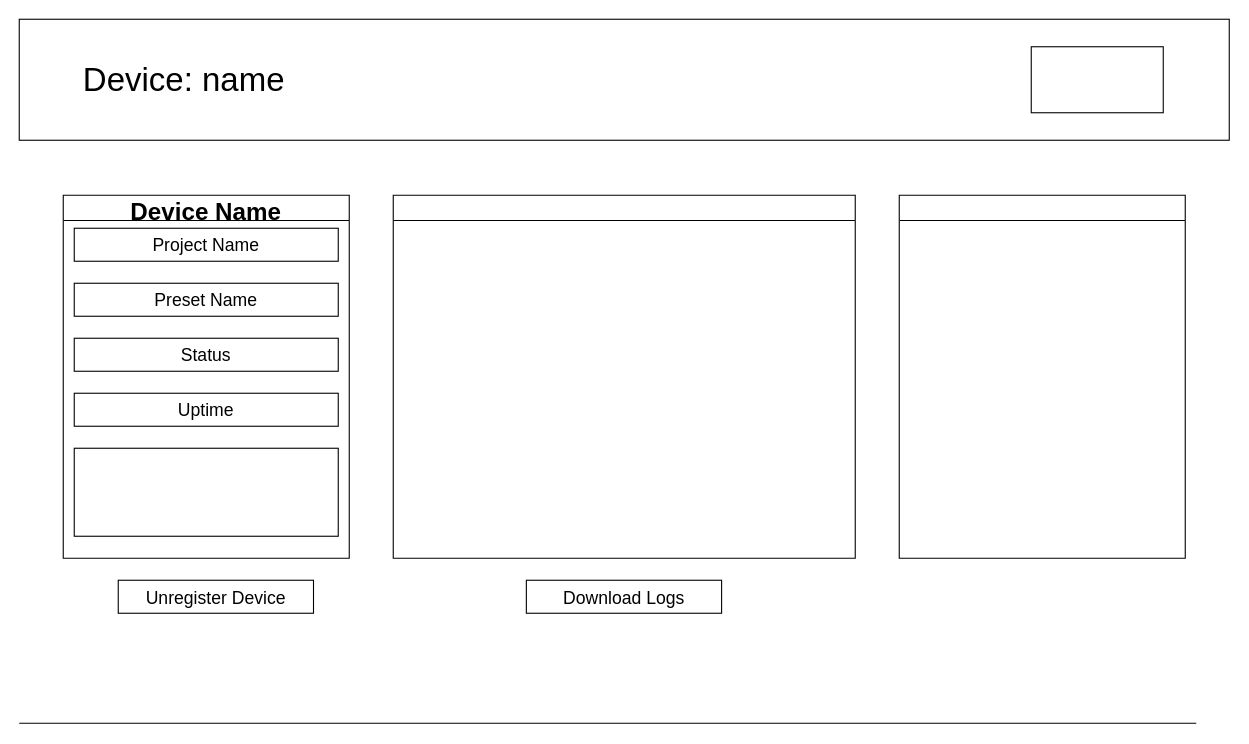
Image size: 1249x744. Some labels were removed from this diagram. Here are the shapes that lost their labels. From the top down, the box of each, then its label:
(1030, 46, 1163, 113): Github Link
(392, 194, 855, 558): Active Logging Terminal
(898, 194, 1185, 558): Descriptive Statistics
(73, 447, 338, 536): Description
